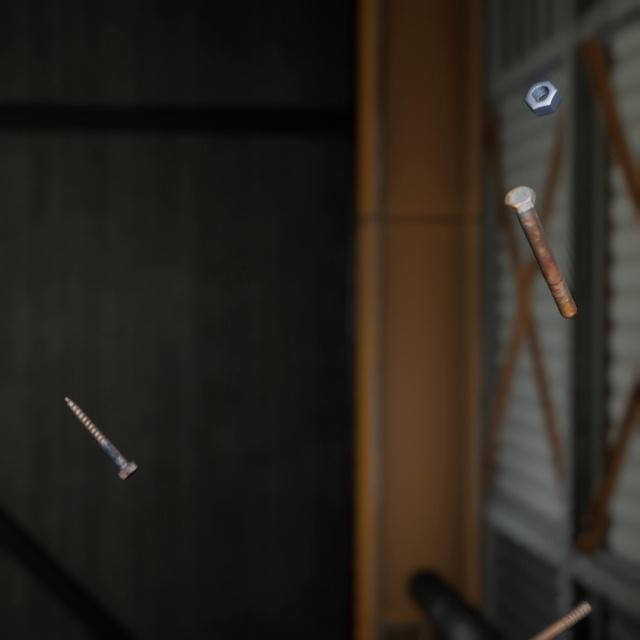bolt: (500, 164, 581, 307), (60, 372, 143, 465), (482, 573, 596, 640)
nut: (519, 63, 566, 109)
